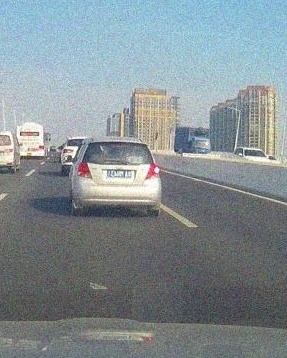L_light: (77, 162, 92, 179)
R_light: (145, 163, 160, 179)
T_light: (113, 142, 123, 145)
day-right: (72, 136, 161, 216)
